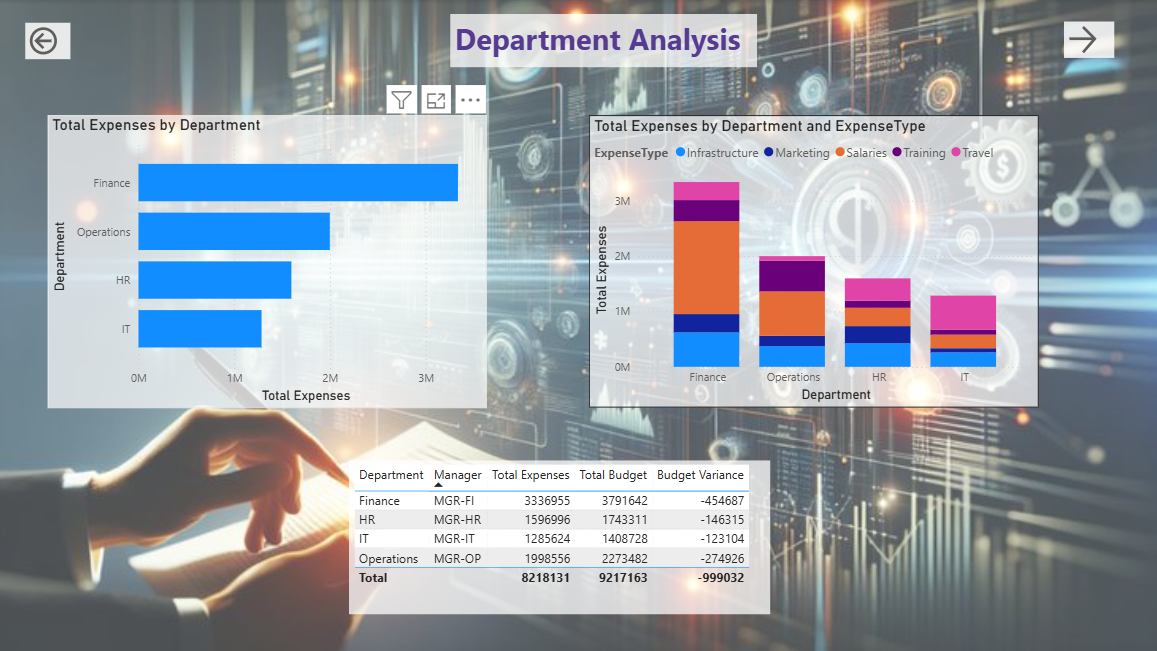

The page's visual inventory and layout, read from the dashboard file:
{"tool":"powerbi","page":{"name":"Department Analysis","canvas":[1280,720],"ordinal":1},"visuals":[{"type":"barChart","fields":{"Category":["Financial_Expense_Optimization_50Rows.Department"],"Y":["Financial_Expense_Optimization_50Rows.Total Expenses"]},"box":[59,127.6,481.6,321.1],"z":0},{"type":"columnChart","fields":{"Category":["Financial_Expense_Optimization_50Rows.Department"],"Series":["Financial_Expense_Optimization_50Rows.ExpenseType"],"Y":["Financial_Expense_Optimization_50Rows.Total Expenses"]},"box":[653.2,127.6,494,321.1],"z":1000},{"type":"tableEx","fields":{"Values":["Financial_Expense_Optimization_50Rows.Department","Financial_Expense_Optimization_50Rows.Manager","Financial_Expense_Optimization_50Rows.Total Expenses","Financial_Expense_Optimization_50Rows.Total Budget","Financial_Expense_Optimization_50Rows.Budget Variance"]},"box":[389.7,506.3,462.4,168.8],"z":2000},{"type":"actionButton","box":[34.3,26.1,49.4,39.8],"z":2001},{"type":"actionButton","box":[1174.6,24.7,54.9,39.8],"z":2002},{"type":"textbox","box":[501.5,16.7,337.1,58.5],"z":2003}]}

Visuals, with their boxes in screenshot pixels (x1, y1, x2, y2), scaled from the page's 1280x720 canvas onto the 1157x651 screenshot:
barChart - Financial_Expense_Optimization_50Rows.Department x Financial_Expense_Optimization_50Rows.Total Expenses: (53, 115, 489, 406)
columnChart - Financial_Expense_Optimization_50Rows.Department x Financial_Expense_Optimization_50Rows.ExpenseType: (590, 115, 1037, 406)
tableEx - Financial_Expense_Optimization_50Rows.Department x Financial_Expense_Optimization_50Rows.Manager: (352, 458, 770, 610)
actionButton: (31, 24, 76, 60)
actionButton: (1062, 22, 1111, 58)
textbox: (453, 15, 758, 68)
